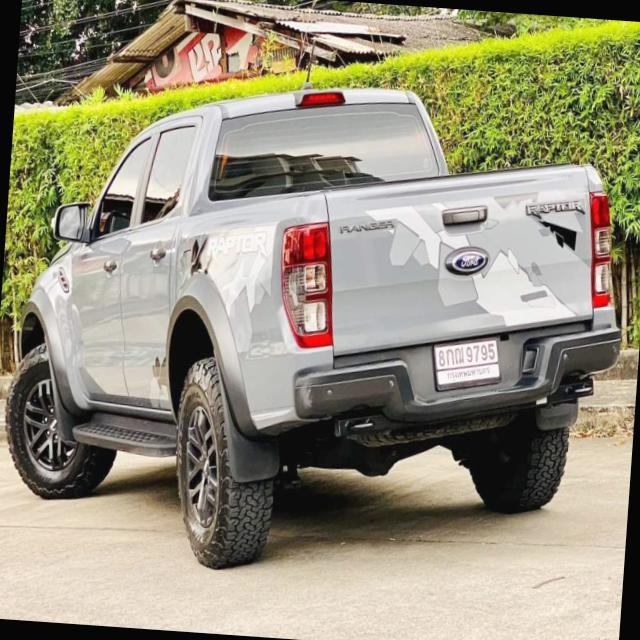license_plate: (429, 324, 504, 393)
